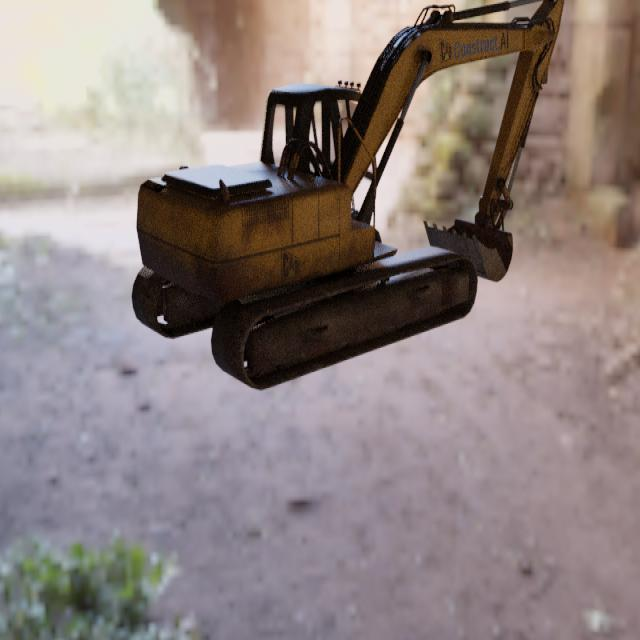excavator: (131, 0, 565, 392)
